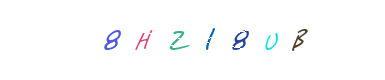1: (170, 0, 250, 80)
2: (152, 0, 232, 80)
8: (100, 0, 180, 80), (173, 0, 253, 80)
B: (259, 0, 339, 80)
H: (133, 0, 213, 80)
U: (192, 0, 272, 80)
